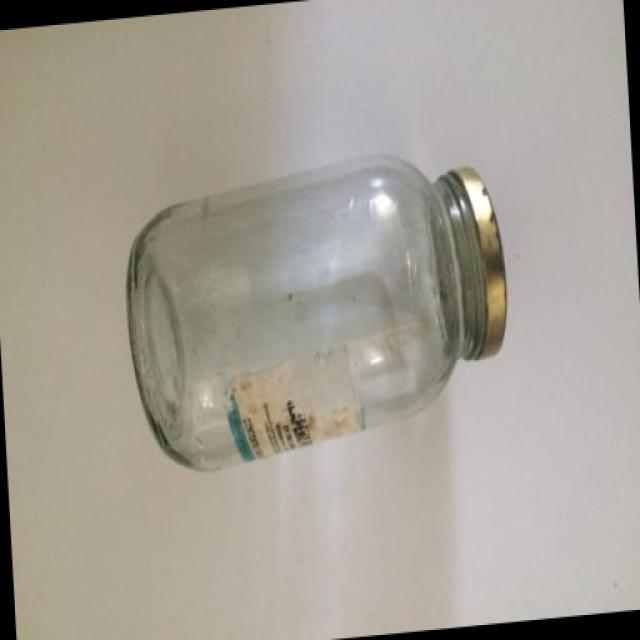vidrio: (120, 112, 538, 505)
